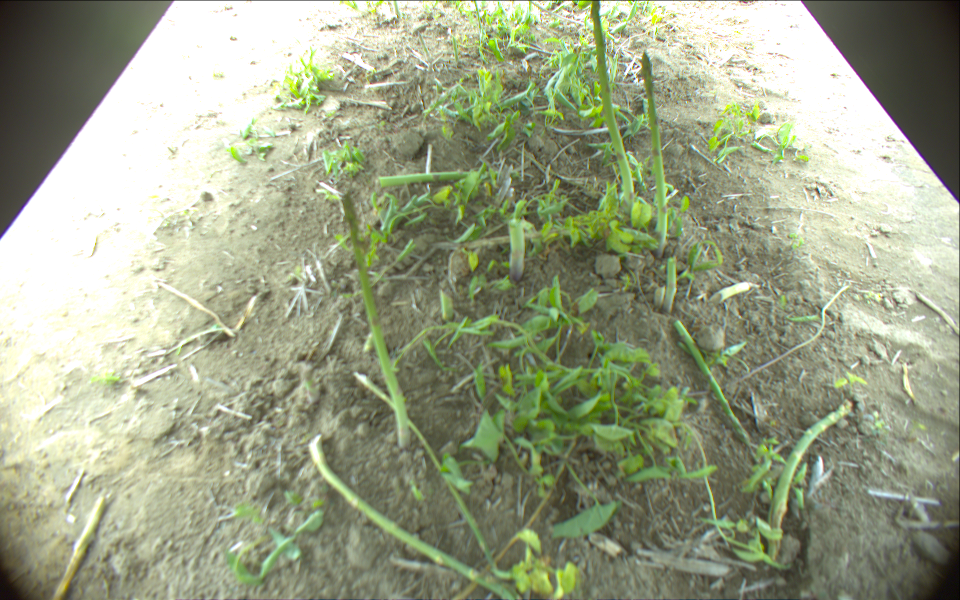aspa: (307, 435, 526, 599), (354, 372, 504, 579), (339, 193, 412, 448), (765, 398, 853, 559), (591, 1, 634, 211), (675, 321, 748, 437), (51, 496, 108, 600), (642, 52, 669, 251), (380, 164, 513, 187), (508, 219, 526, 282), (663, 257, 678, 310), (472, 1, 483, 37), (441, 290, 452, 322), (654, 285, 665, 308), (392, 1, 400, 19)
